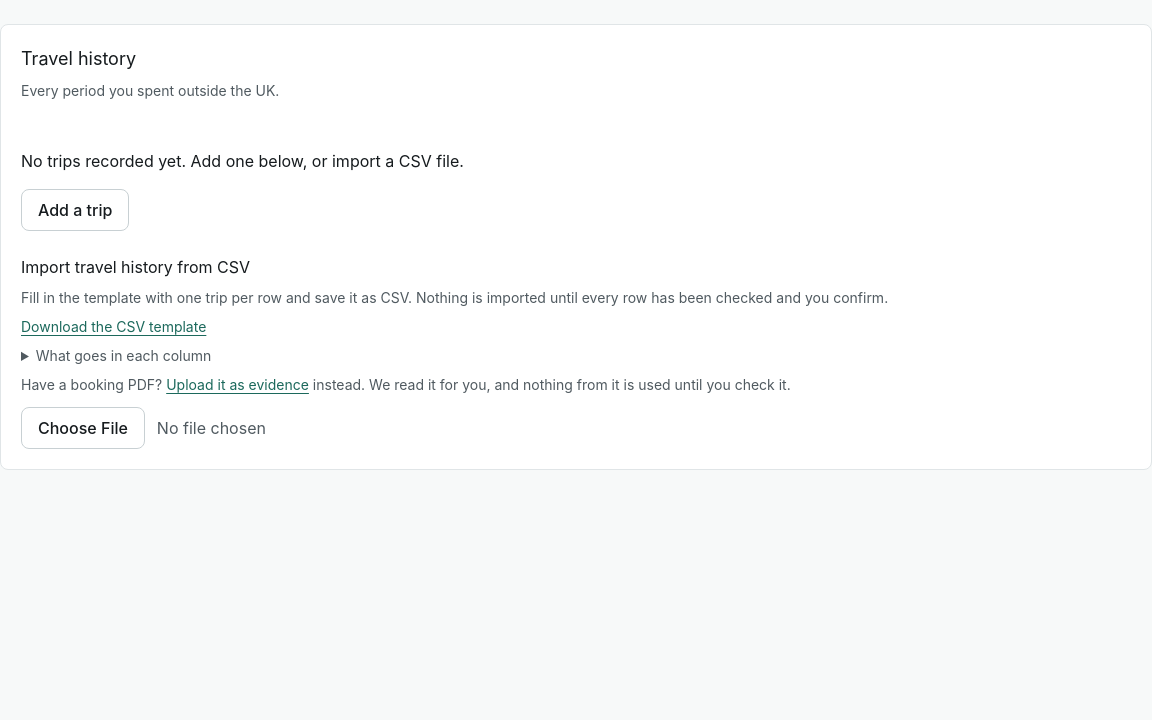
TravelHistory › the trip form's dates › follows the departure date while it is typed, not the half-typed year
Click the button "Add a trip". click: (75, 210)
box: left=21, top=189, right=129, bottom=231
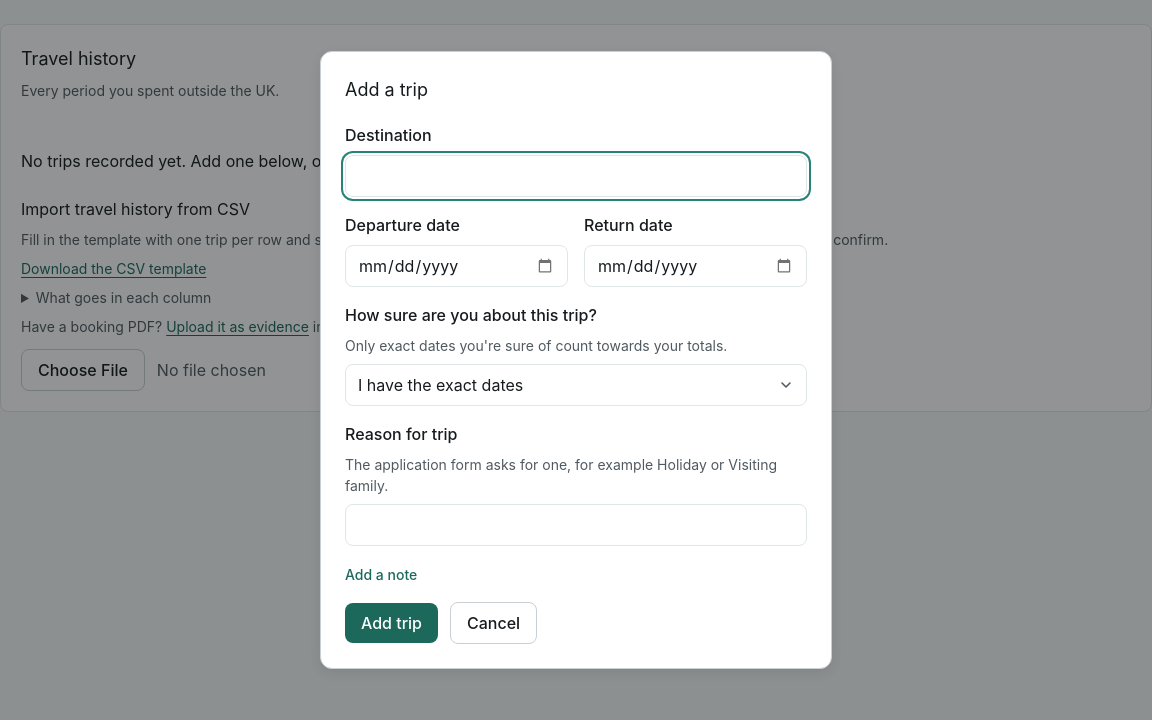
Type "0002-12-10" into the date field labelled "Departure date". click: (456, 266)
box: left=345, top=245, right=568, bottom=287
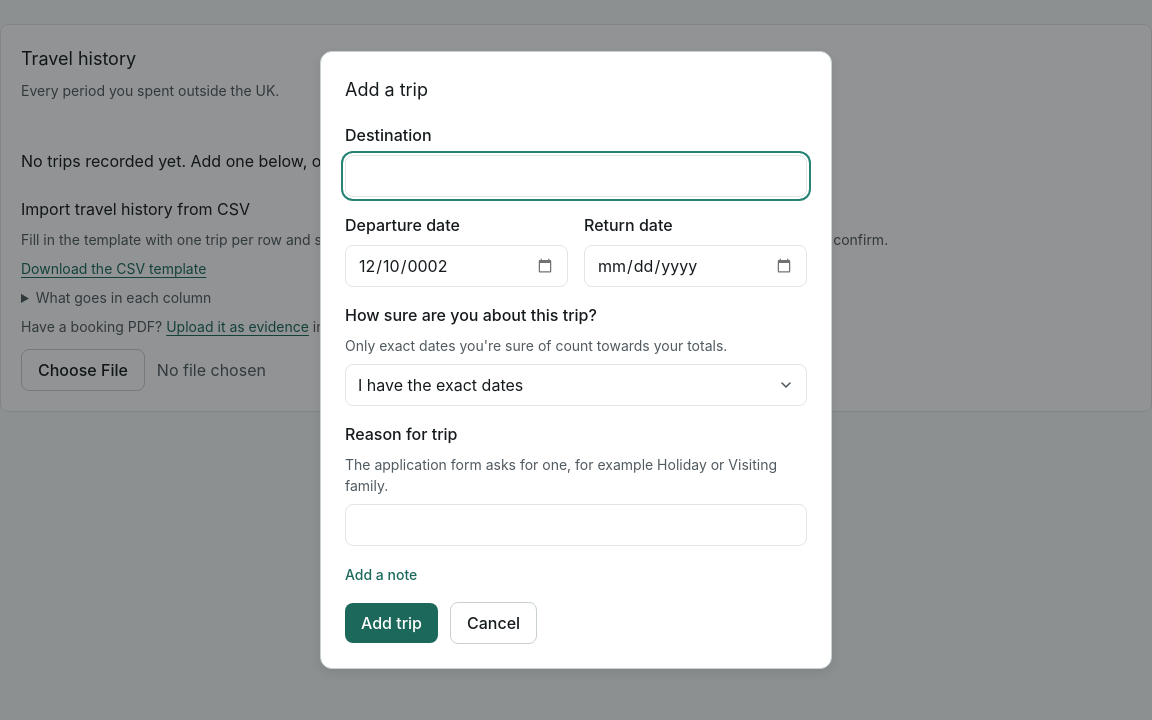
Type "0020-12-10" into the date field labelled "Departure date". click: (456, 266)
box: left=345, top=245, right=568, bottom=287
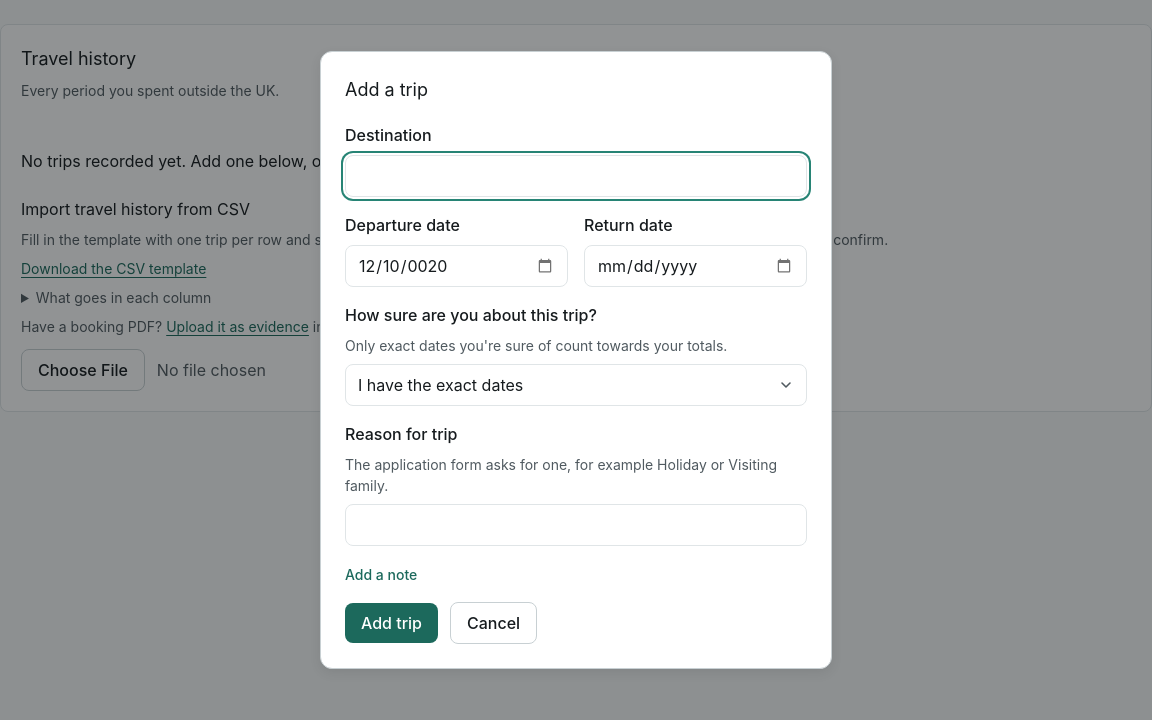
Type "0202-12-10" into the date field labelled "Departure date". click: (456, 266)
box: left=345, top=245, right=568, bottom=287
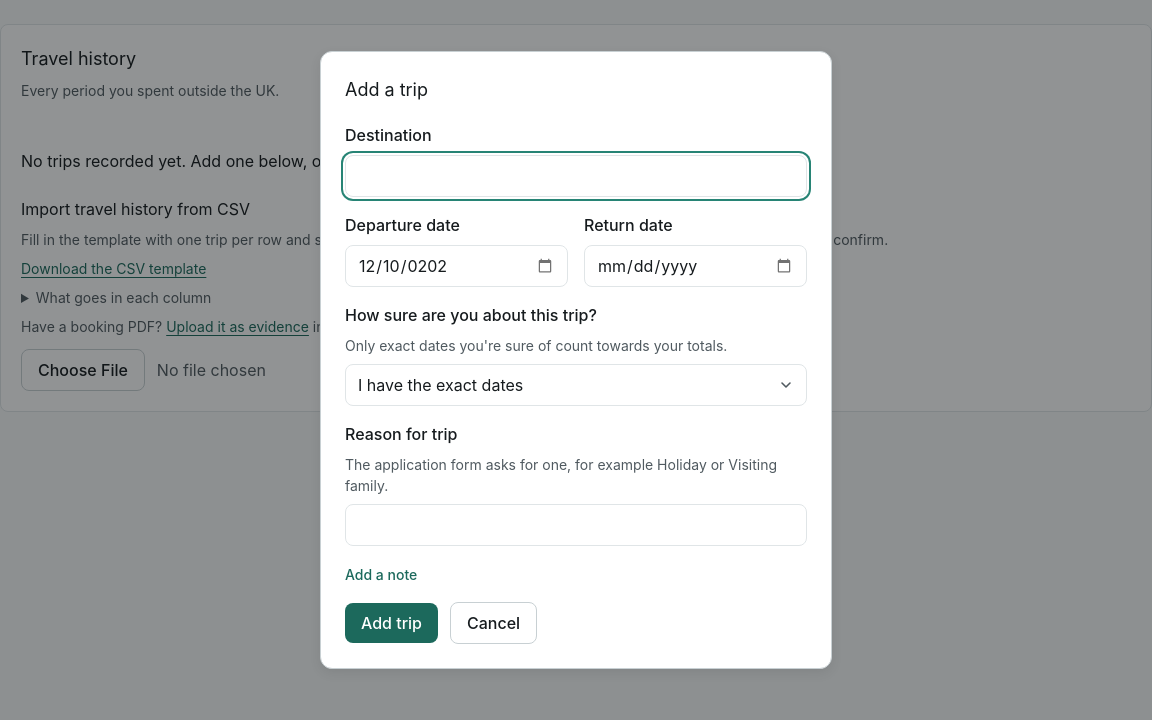
Type "2021-12-10" into the date field labelled "Departure date". click: (456, 266)
box: left=345, top=245, right=568, bottom=287
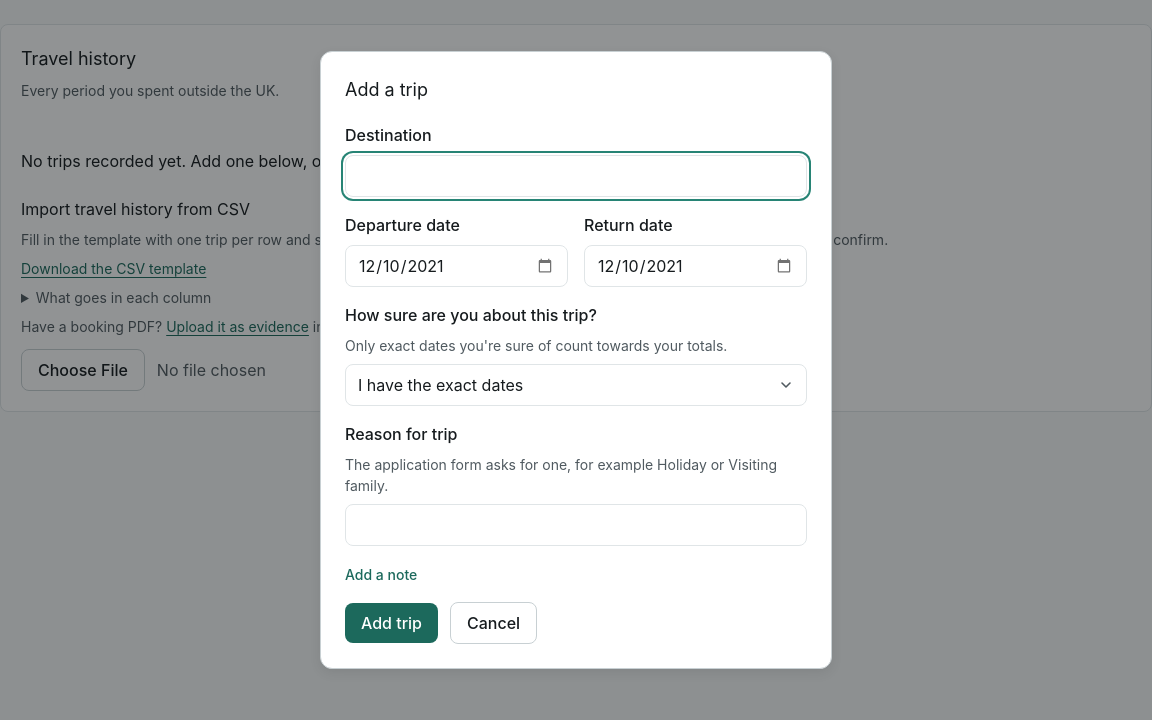
Result: the date field labelled "Return date" holds "2021-12-10" at left=584, top=245, right=807, bottom=287
